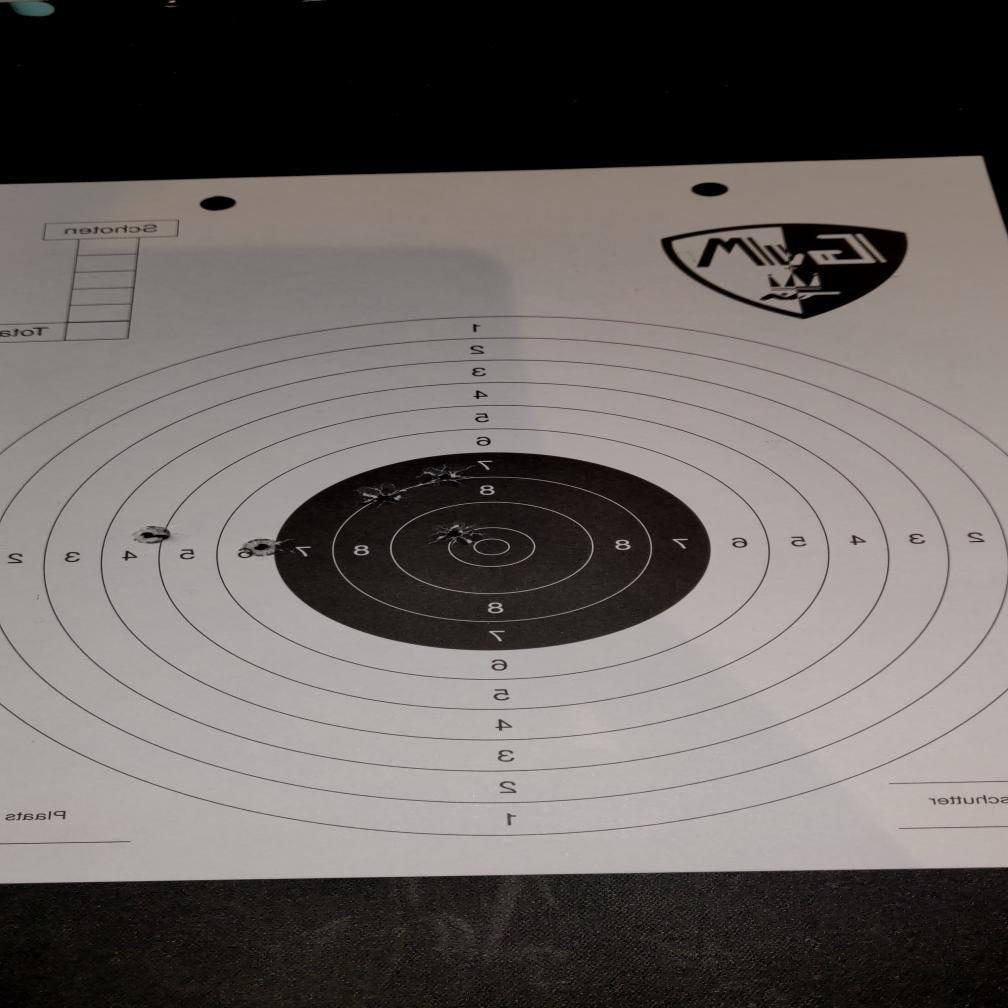10: (425, 520, 484, 546)
5: (132, 524, 183, 545)
7: (241, 536, 292, 557)
8: (412, 463, 480, 487), (351, 481, 410, 508)
Target: (0, 310, 1008, 838)
black_contour: (274, 452, 709, 652)
